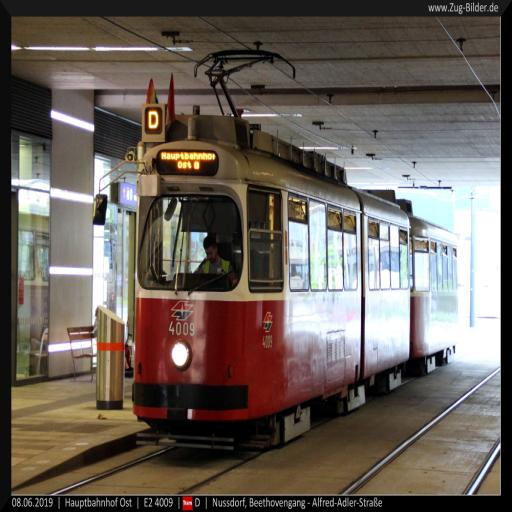E2-Tram: (132, 96, 458, 443)
